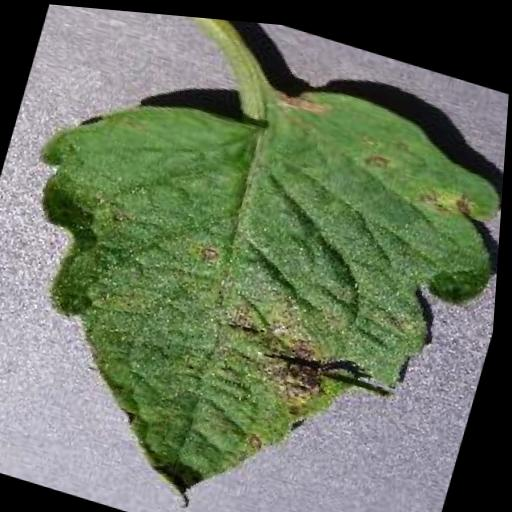Septoria: (0, 3, 512, 512)
